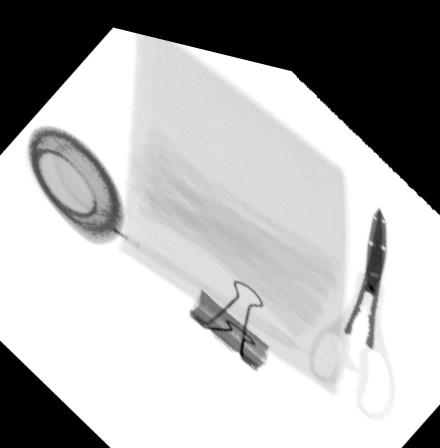Scissors: (309, 187, 398, 400)
